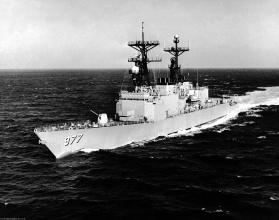warship: (30, 25, 241, 158)
